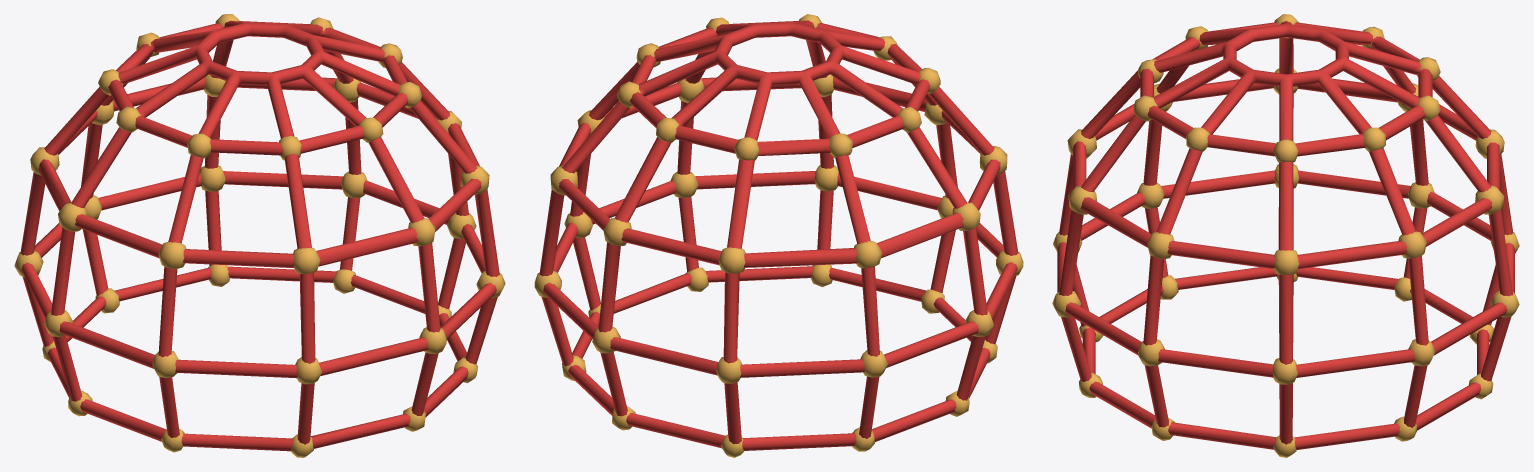
Rendered from ClimbingFrame_05.fbx.
3 views of the same model, side by side, from view 1: azimuth 30°, elevation 25°; view 2: azimuth 150°, elevation 25°; view 3: azimuth 270°, elevation 25° (orthographic).
Parts seen in each view (by area): view 1: ClimbingFrame_05; view 2: ClimbingFrame_05; view 3: ClimbingFrame_05.
Boxes of the visible parts, x1=… form: ClimbingFrame_05: x1=14, y1=14, x2=505, y2=457; ClimbingFrame_05: x1=534, y1=14, x2=1023, y2=457; ClimbingFrame_05: x1=1052, y1=14, x2=1519, y2=457.
Size of the model in its own units: 2.99 by 2.17 by 2.86.
